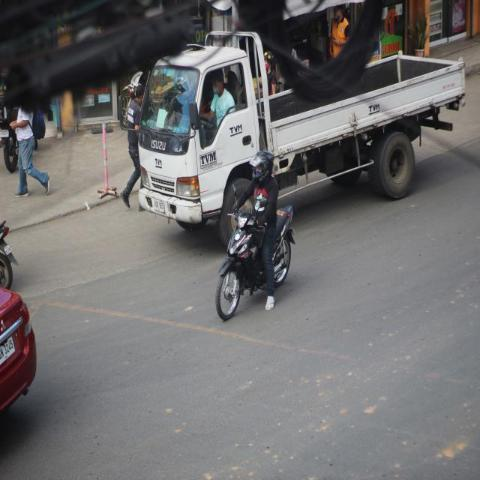motorcycle: (214, 150, 297, 322)
truck: (136, 28, 466, 224)
